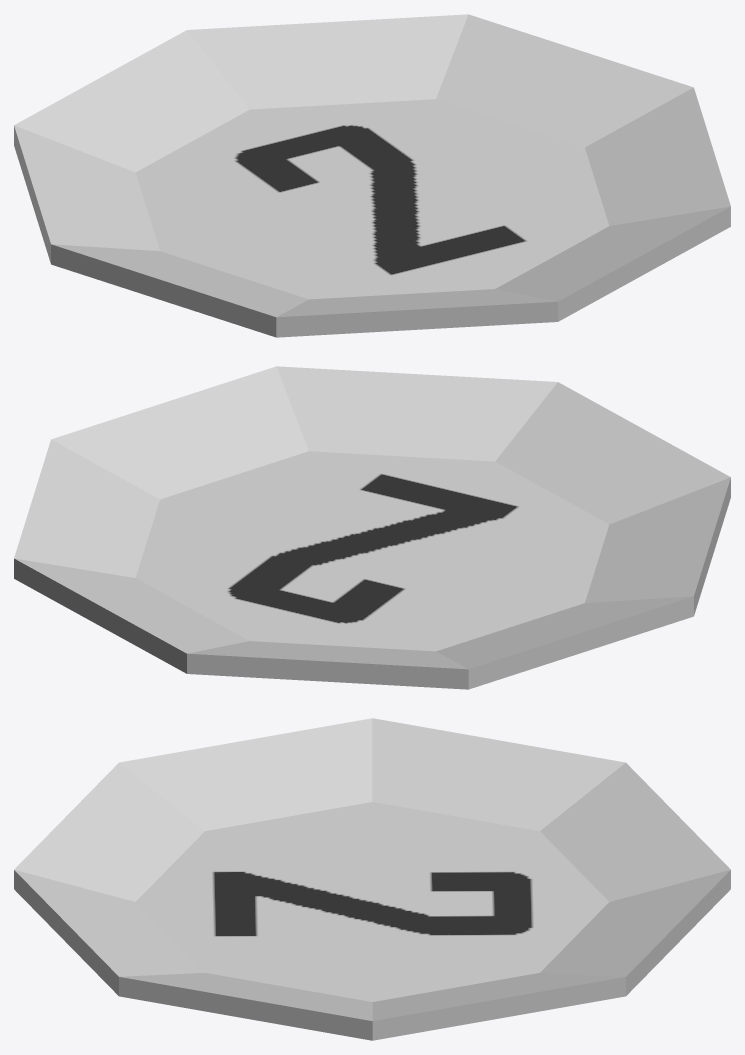
Rendered from Dish_02.fbx.
The picture shows the model from 3 angles, top to bottom: view 1: azimuth 30°, elevation 25°; view 2: azimuth 150°, elevation 25°; view 3: azimuth 270°, elevation 25°; orthographic projection. The views are drawn at different scales.
Visible parts, largest first — view 1: Dish_two; view 2: Dish_two; view 3: Dish_two.
Boxes of the visible parts, bbox=[...] form: Dish_two: bbox=[14, 14, 730, 337]; Dish_two: bbox=[14, 366, 730, 689]; Dish_two: bbox=[14, 718, 730, 1040].
Size of the model in its own units: 59.87 by 5.8 by 59.87.
